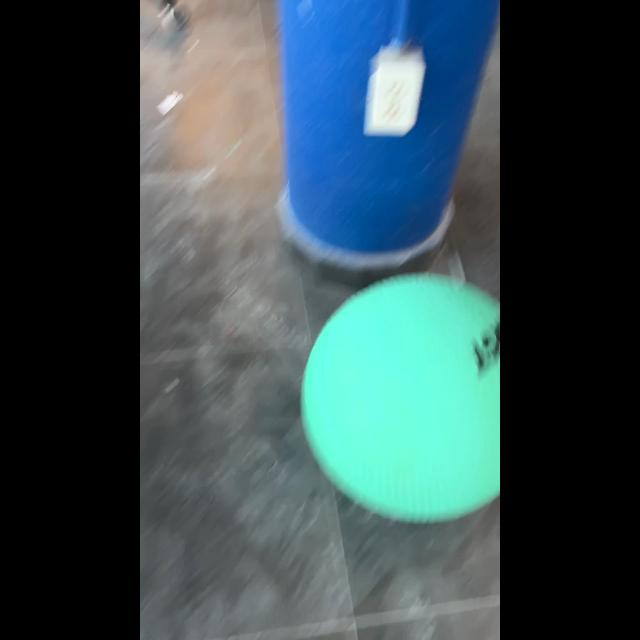ALGAE: (300, 272, 498, 524)
